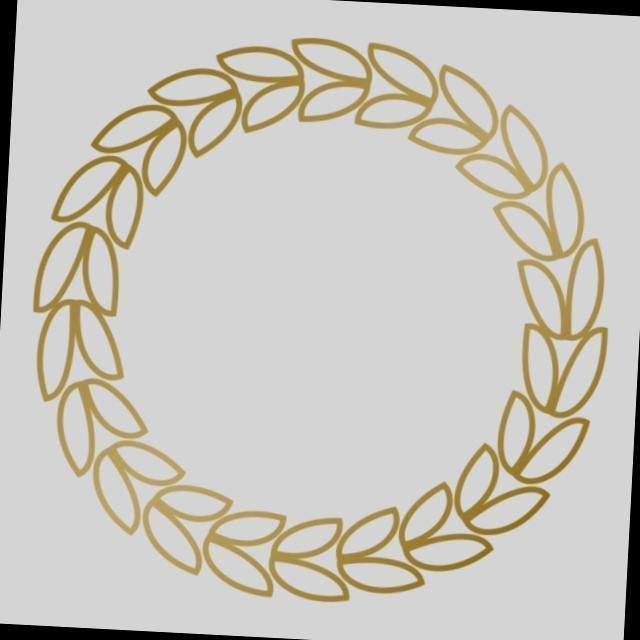Circle: (33, 30, 612, 607)
